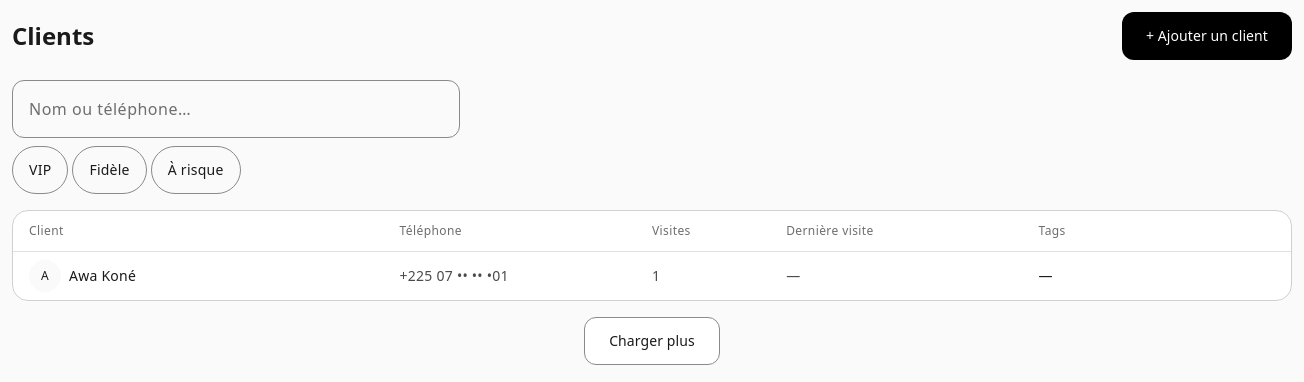
Scenario: Pro pages — a later read is cut, after the page loaded › Clients — « Charger plus » cut
The width and height of the screenshot is (1304, 382).
Click the button "Charger plus" at x=652, y=341, box [584, 317, 720, 365]
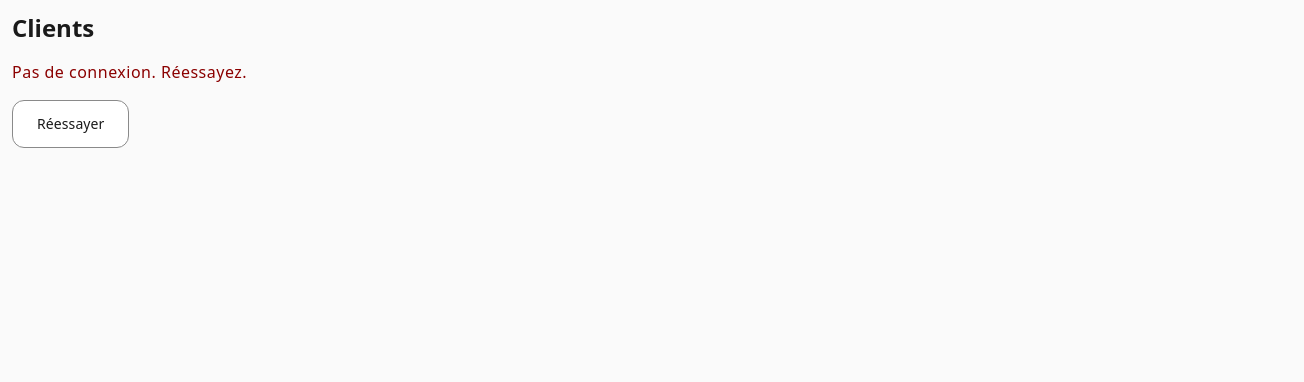
Expected: the heading "Clients" is shown, [12, 11, 94, 44]
Now the button "Réessayer" is shown, box [12, 100, 130, 148]
Now the message reads "Pas de connexion. Réessayez.", box [12, 61, 247, 83]
